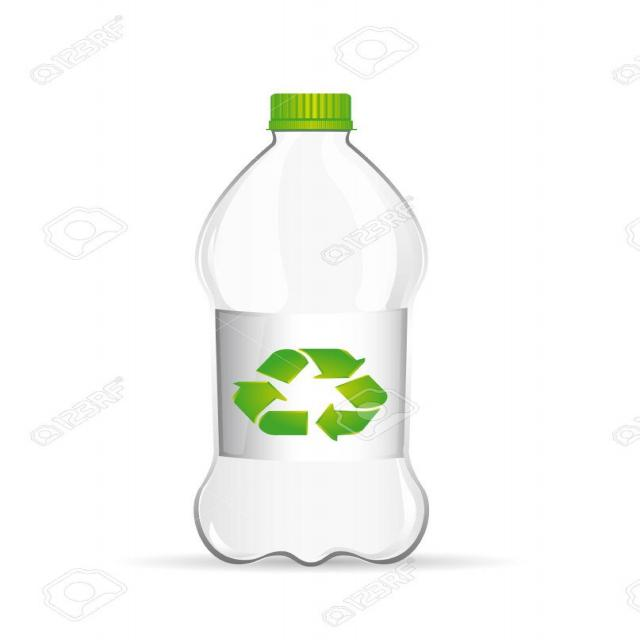plastic_bottle: (177, 89, 442, 572)
